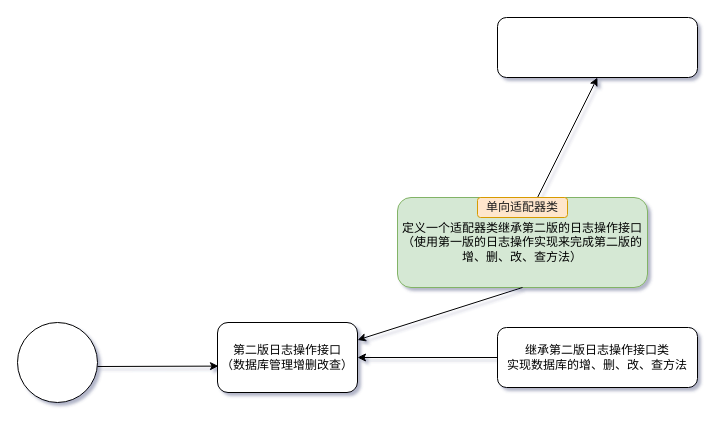
The diagram is 721 pixels wide and 426 high, and some of its shapes have lost their labels. The shapes that lost their labels are listed below. From the top down, each one's centre as x and y in pixels, then its label:
At (x=597, y=47): "第一版日志操作实现： 写文件、读文件".
At (x=57, y=362): "客户".
